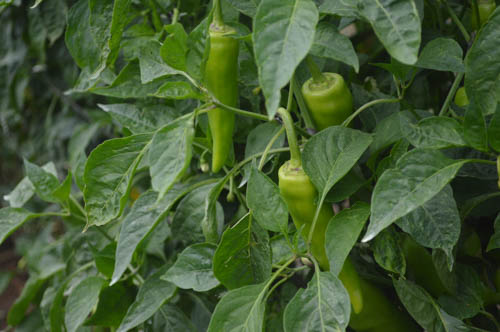ChiliPepper: (278, 167, 362, 316), (198, 27, 244, 174), (305, 80, 361, 166)
